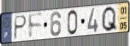0: (67, 9, 79, 36)
4: (87, 7, 100, 34)
6: (49, 10, 62, 37)
F: (27, 12, 44, 41)
P: (13, 15, 28, 41)
Q: (101, 5, 119, 33)
